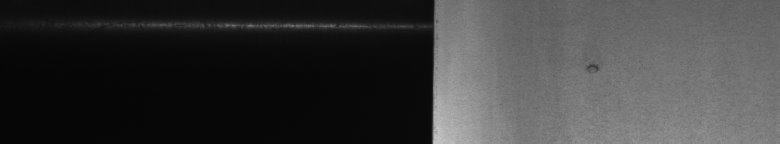fi: (576, 56, 604, 80)
